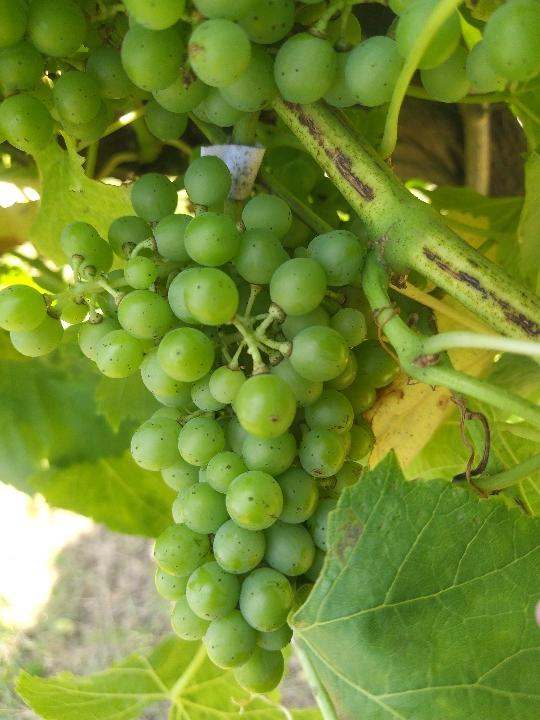grape: (4, 156, 400, 695)
